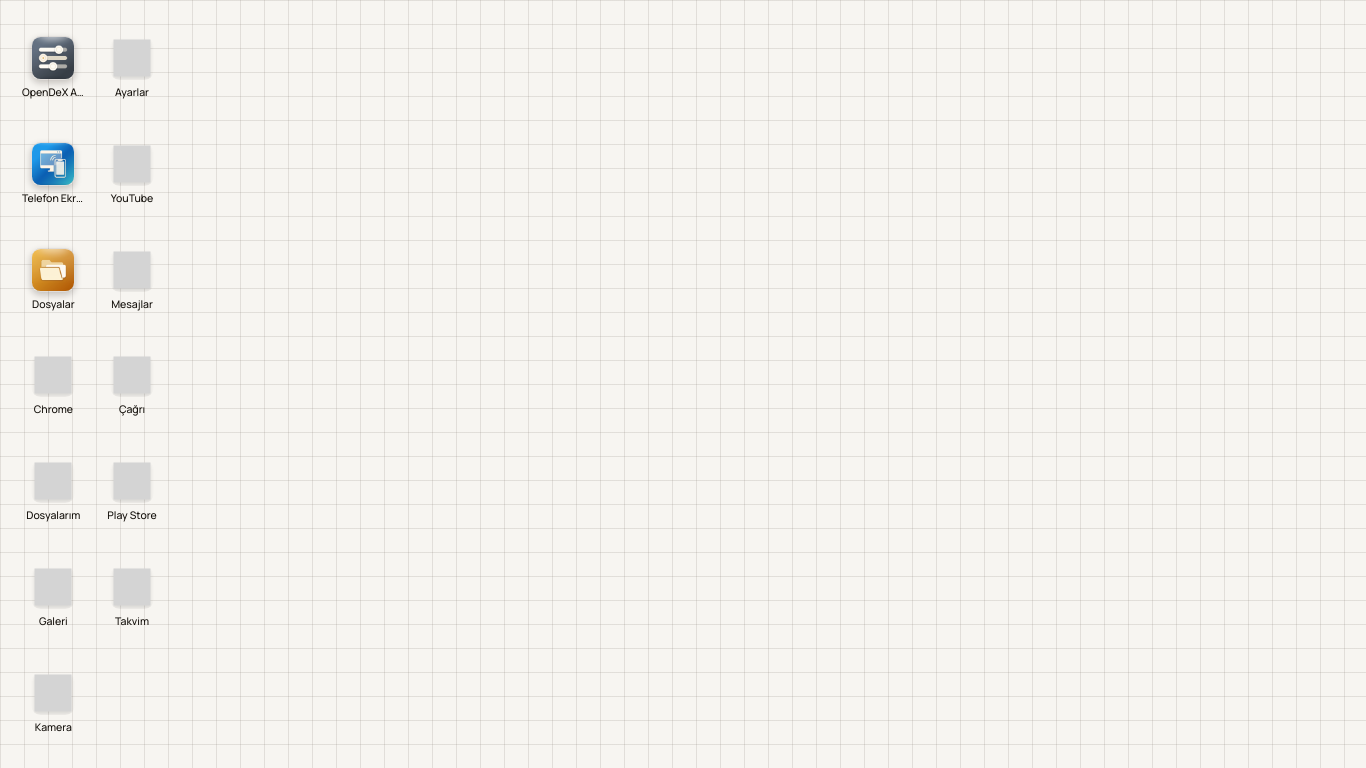
Desktop kabuğu (ui/Menu + ui/Dialog) › sağ tık → "Rastgele arka plan" kapağı pencere açmadan değiştirir; ızgara yalnız düz kapakta çizilir
Right-click the element named "DeX Masaüstü": point(683, 384) left=0, top=0, right=1365, bottom=767
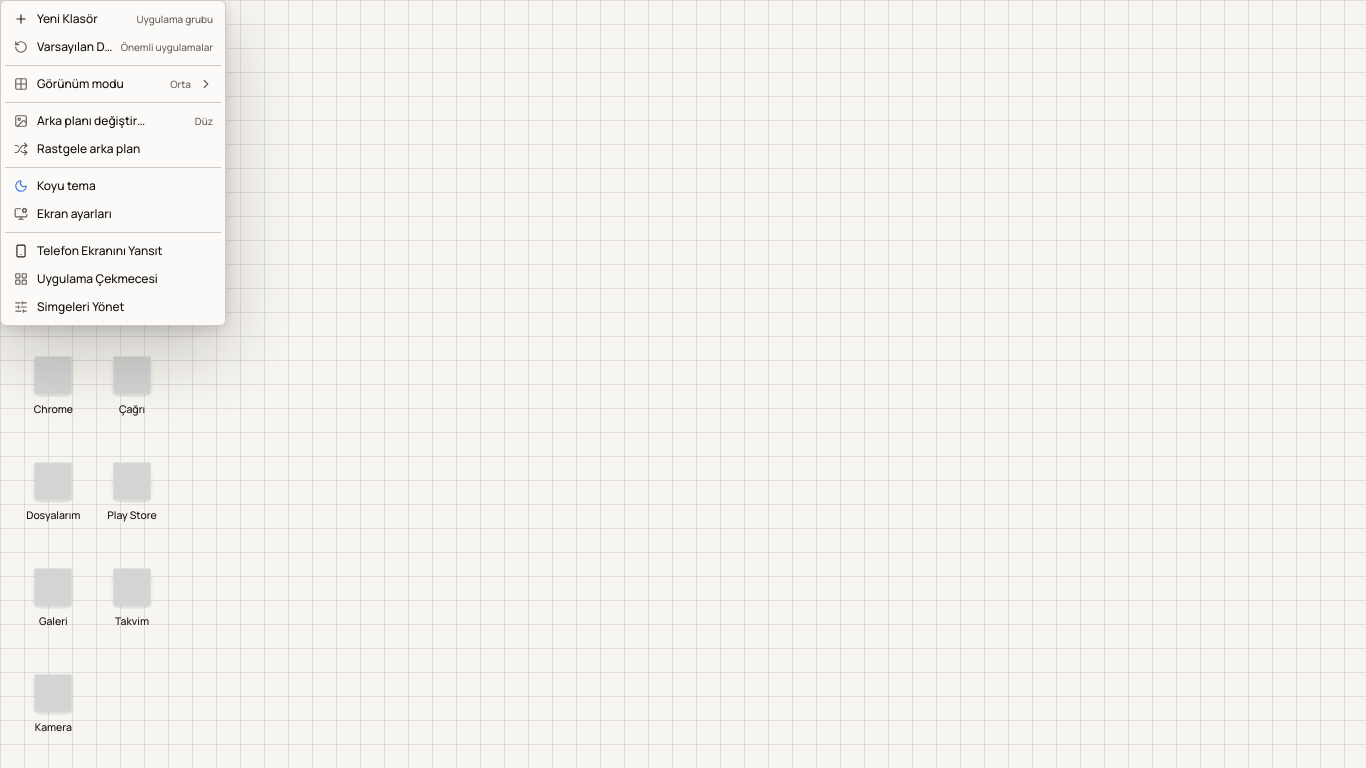
Click the menu item "Rastgele arka plan": point(113, 149) left=5, top=135, right=221, bottom=163
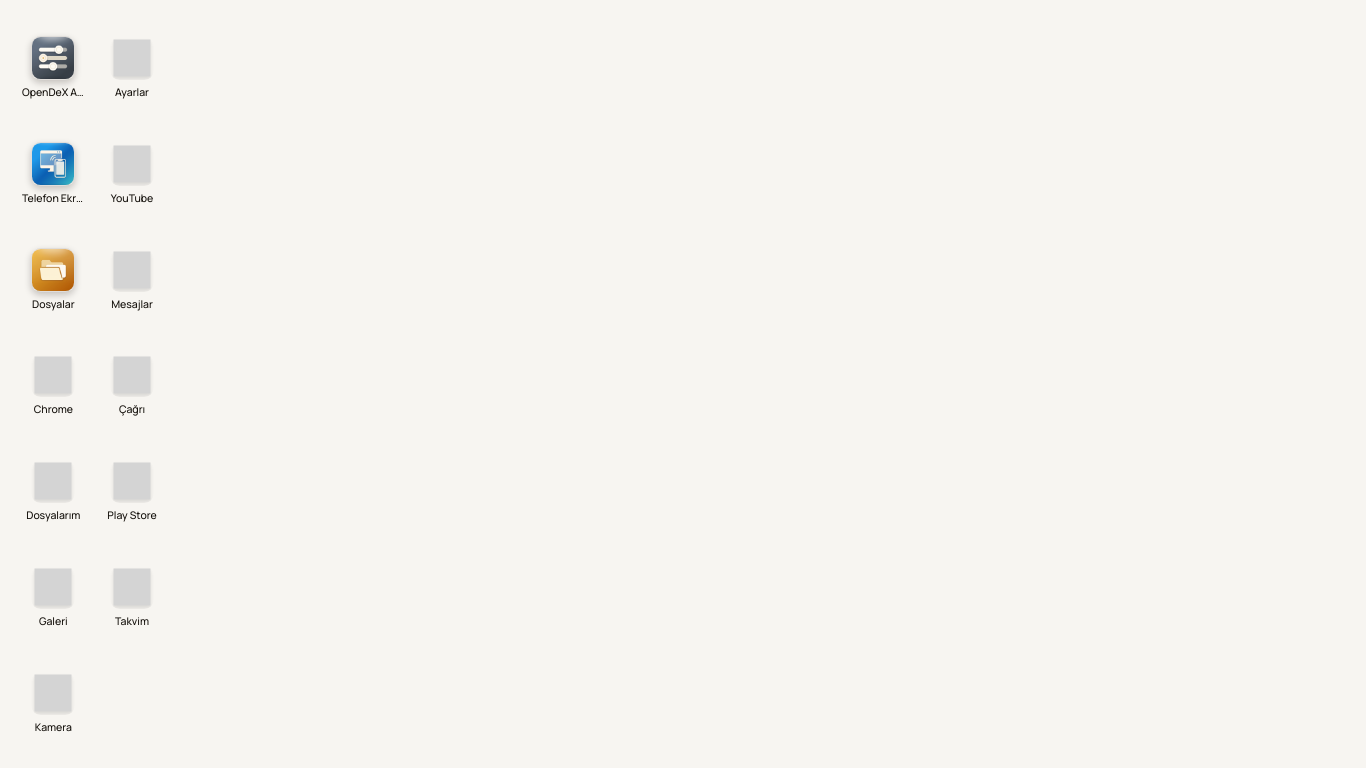
Expected: the menu item "Arka plan" is gone
Expected: the element with class "workspace-grid" is gone
